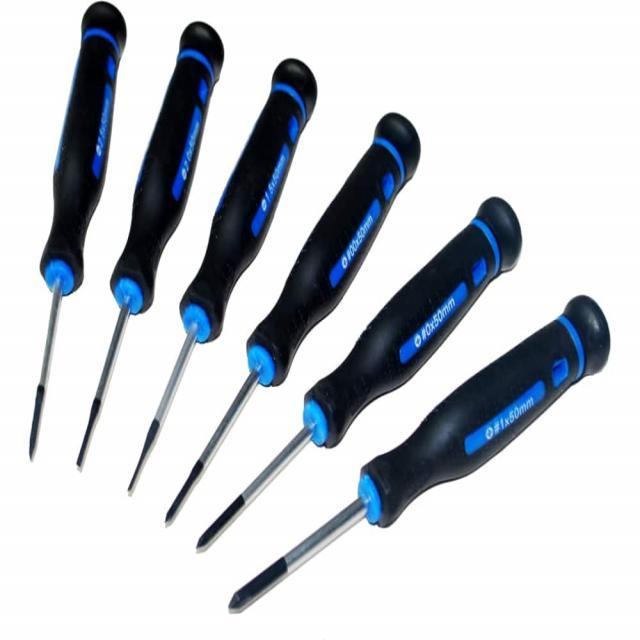screwdriver: (220, 295, 612, 617), (194, 195, 522, 558), (156, 108, 424, 530), (121, 51, 322, 501), (74, 19, 224, 475), (26, 0, 129, 468)
